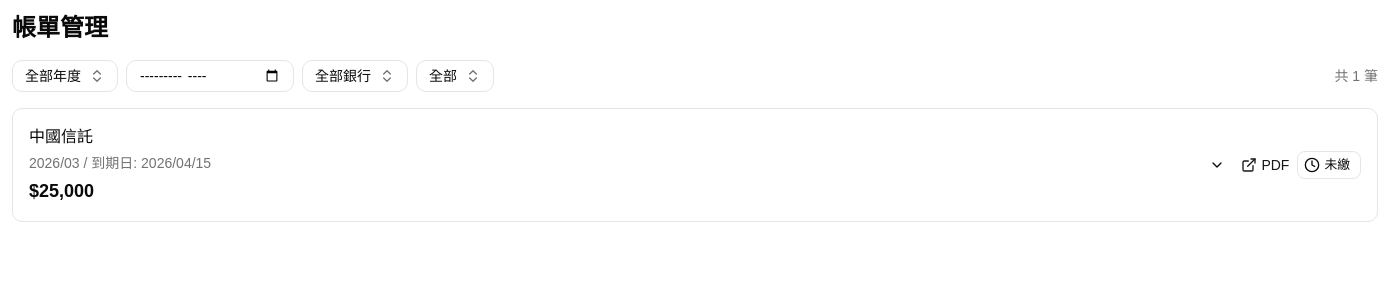
Scenario: BillsPage › shows error banner when toggling paid status fails
expect the text "中國信託" is shown: met, box [29, 128, 93, 145]
Click the button with aria-label "標記為已繳".
click(1329, 165)  # box [1297, 151, 1361, 179]
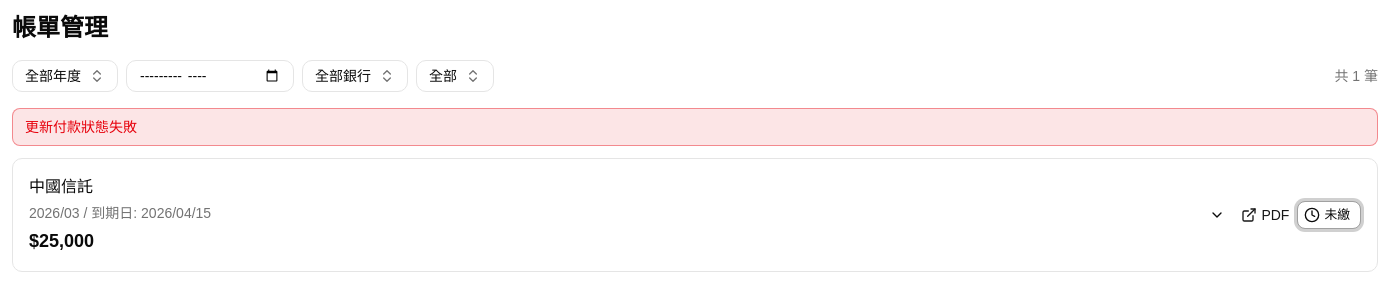
expect the message reads "更新付款狀態失敗": met, box [25, 119, 137, 135]
